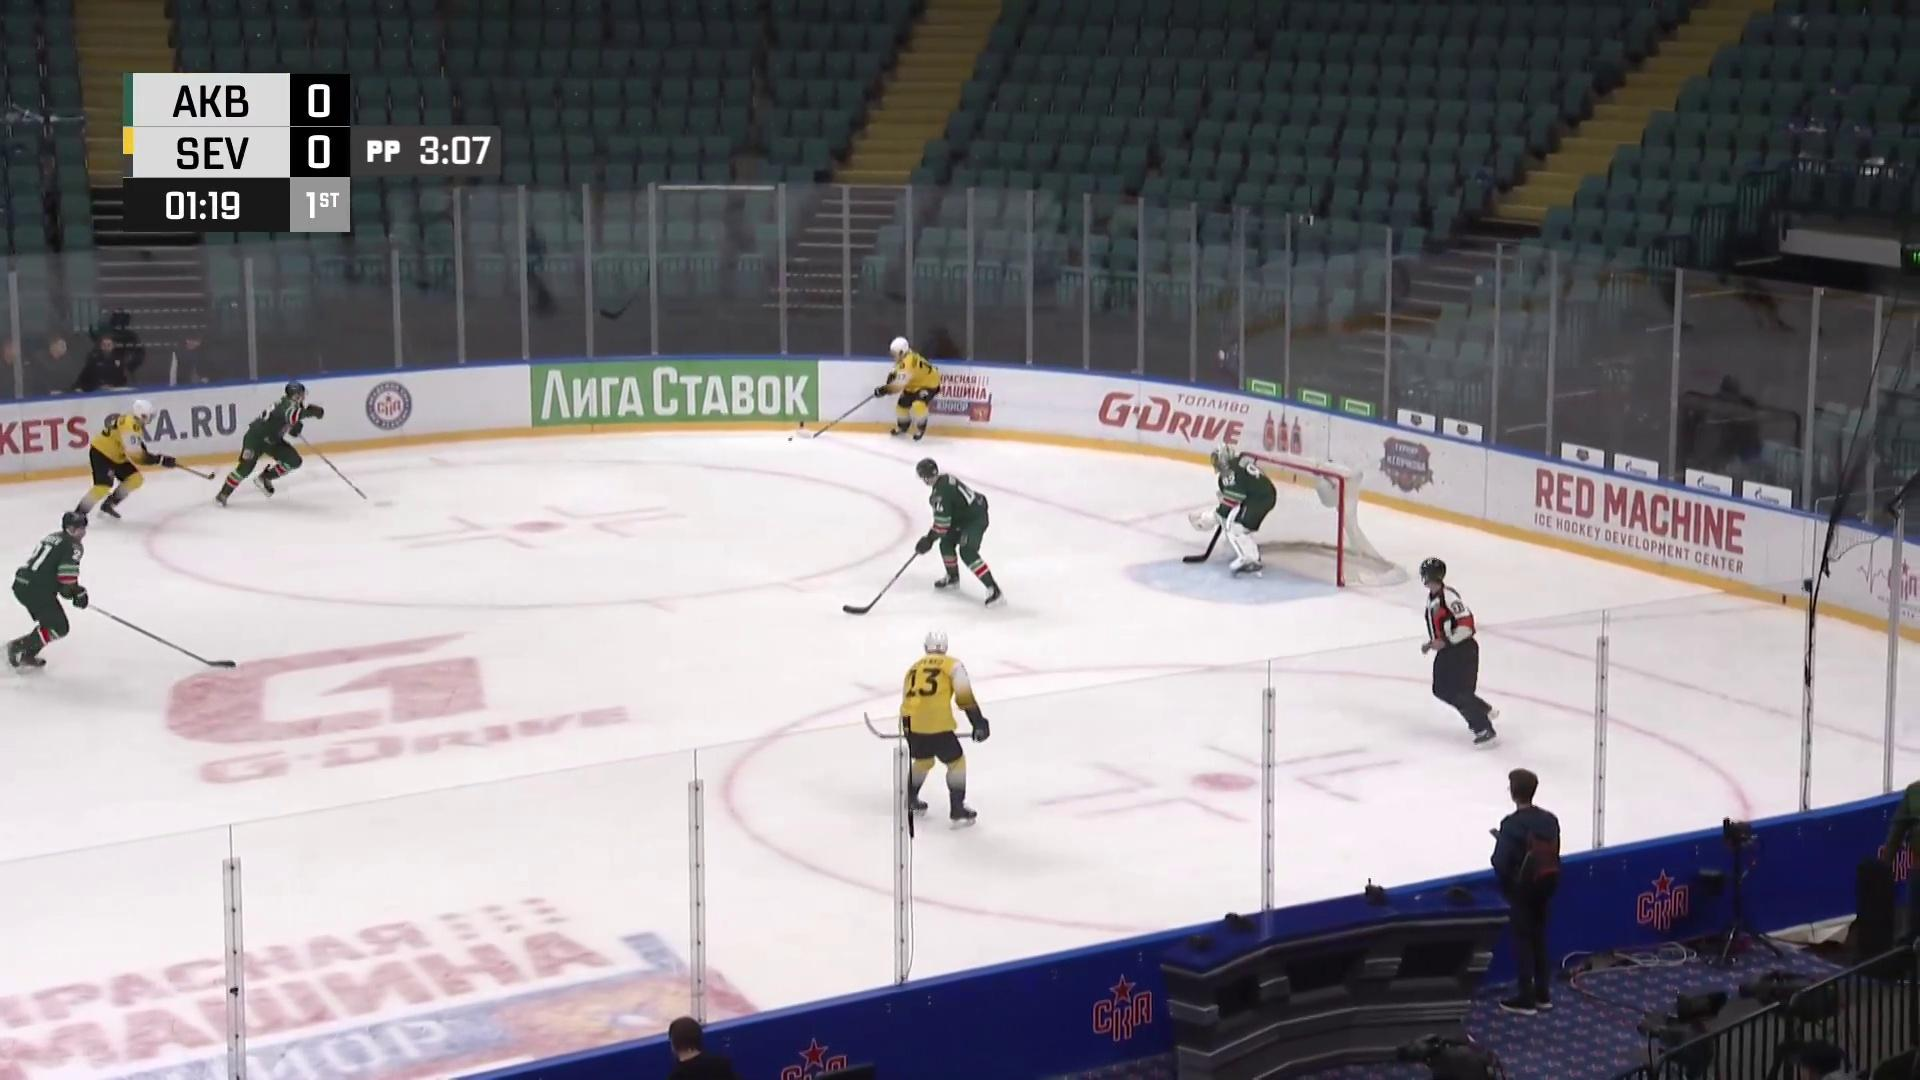ball: (786, 436, 794, 444)
